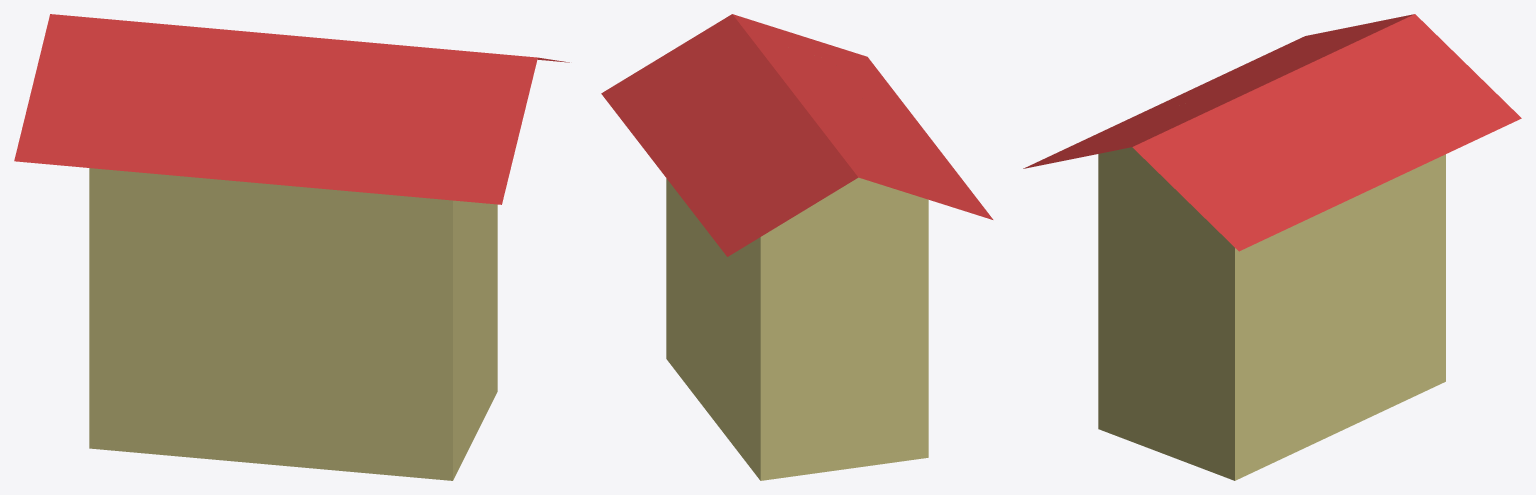
3 renders of one model, left to right at view 1: azimuth 30°, elevation 25°; view 2: azimuth 150°, elevation 25°; view 3: azimuth 270°, elevation 25°, orthographic. The views are drawn at different scales.
Size of the model in its own units: 9.46 by 9.28 by 6.66.
